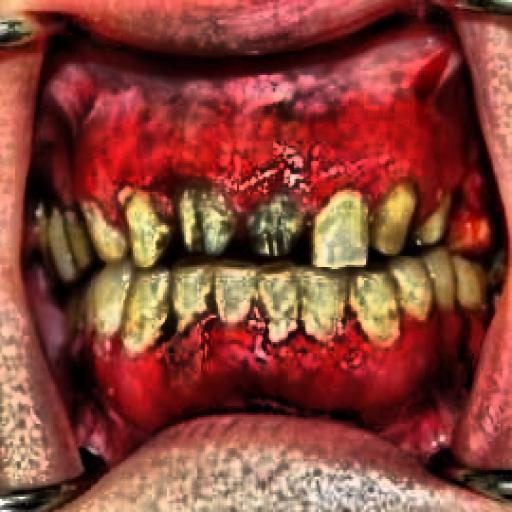Gingivitis: (50, 44, 482, 198), (68, 323, 459, 458)
